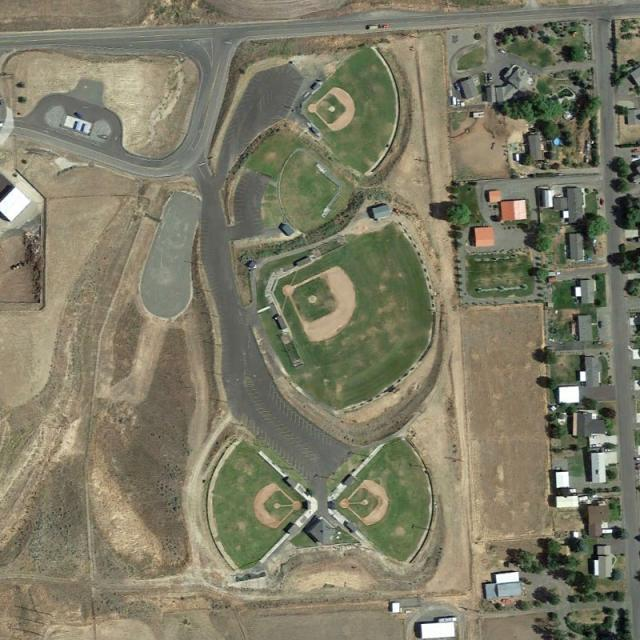vehicle: (368, 25, 381, 30), (599, 320, 604, 329), (592, 341, 603, 345), (498, 49, 506, 54), (383, 25, 390, 28)
